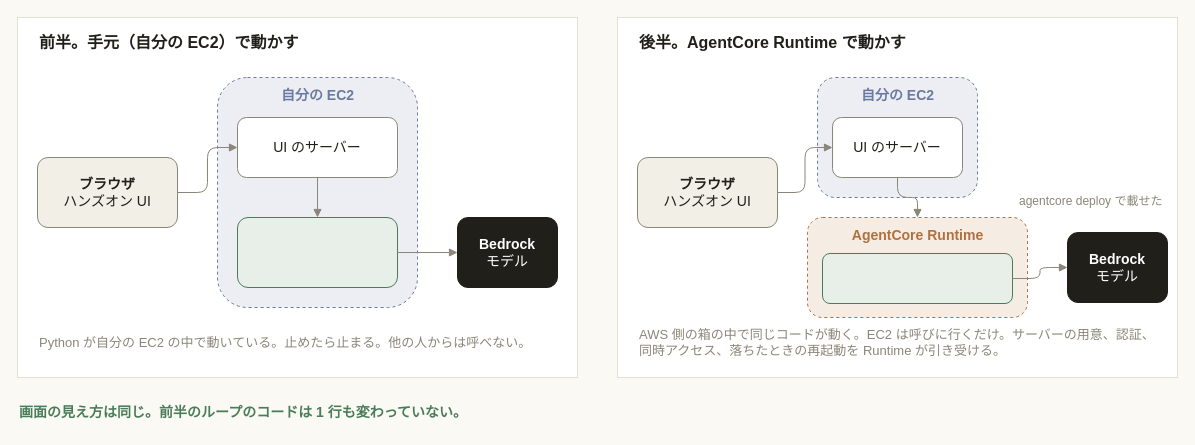
Image size: 1195x445. Some labels were removed from this diagram. The centre of each missing label's shape, as x and y in pixels:
エージェント agent.py + tools.py: [317,252]
エージェント （同じコード）: [917,278]
